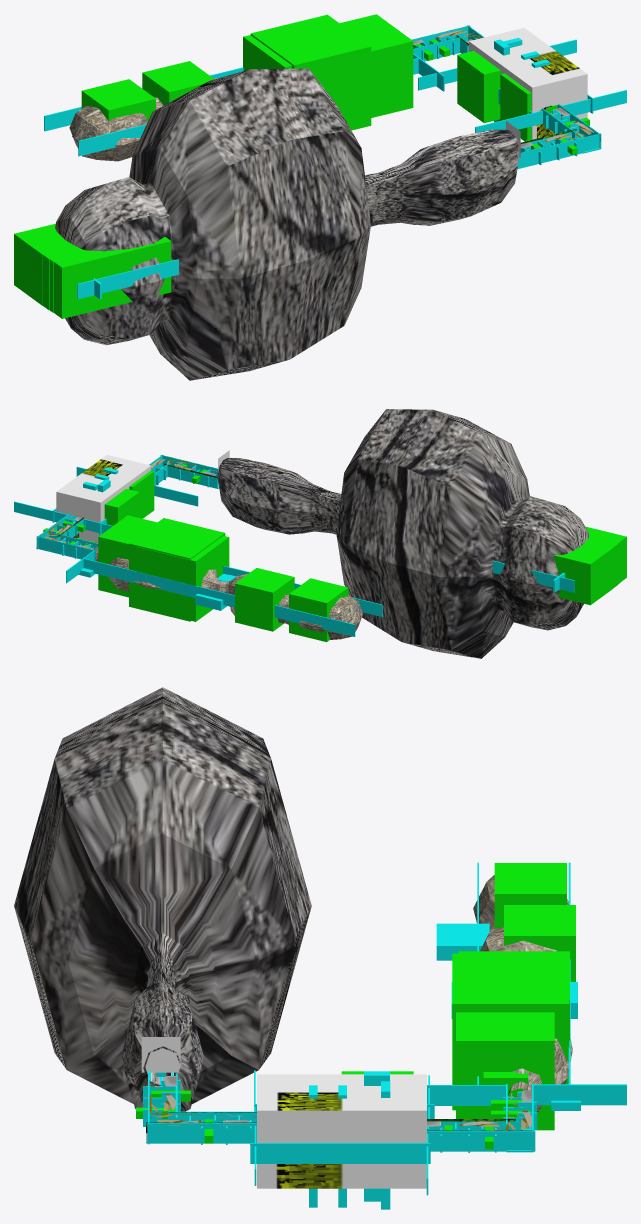
File: level1.obj
3 views of the same model, one above another, from view 1: azimuth 30°, elevation 25°; view 2: azimuth 150°, elevation 25°; view 3: azimuth 270°, elevation 25° (orthographic). The views are drawn at different scales.
Visible parts, largest first — view 1: Cube.057_Cube.065, Cube.250_Cube.243, Cube.056_Cube.062, Cube.267_Cube.260, Cube.251_Cube.244, Cube.257_Cube.250, Cube.055_Cube.061, Cube.207_Cube.007, Cube.247_Cube.217, Cube.266_Cube.259, Cube.275_Cube.269, Cube.259_Cube.252 (+8 smaller); view 2: Cube.057_Cube.065, Cube.248_Cube.241, Cube.056_Cube.062, Cube.250_Cube.243, Cube.269_Cube.262, Cube.247_Cube.217, Cube.266_Cube.259, Cube.055_Cube.061, Cube.207_Cube.007, Cube.251_Cube.244, Cube.257_Cube.250, Cube.259_Cube.252 (+11 smaller); view 3: Cube.057_Cube.065, Cube.056_Cube.062, Cube.250_Cube.243, Cube.251_Cube.244, Cube.270_Cube.263, Cube.207_Cube.007, Cube.247_Cube.217, Cube.055_Cube.061, Cube.123_Cube.117, Cube.244_Cube.118, Cube.124_Cube.160, Cube.282_Cube.275 (+3 smaller).
Boxes of the visible parts, x1,y1,x2,y2 form: Cube.057_Cube.065: (55,68,519,380); Cube.250_Cube.243: (250,14,371,130); Cube.056_Cube.062: (469,27,587,139); Cube.267_Cube.260: (47,237,171,318); Cube.251_Cube.244: (340,14,413,117); Cube.257_Cube.250: (457,51,500,123); Cube.055_Cube.061: (69,77,217,161); Cube.207_Cube.007: (81,79,155,127); Cube.247_Cube.217: (142,61,214,105); Cube.266_Cube.259: (14,223,57,305); Cube.275_Cube.269: (77,259,178,299); Cube.259_Cube.252: (500,73,557,140); Cube.057_Cube.065: (217,409,588,658); Cube.248_Cube.241: (137,535,229,621); Cube.056_Cube.062: (56,455,151,543); Cube.250_Cube.243: (129,518,225,621); Cube.269_Cube.262: (83,558,355,636); Cube.247_Cube.217: (235,568,294,631); Cube.266_Cube.259: (553,546,613,605); Cube.055_Cube.061: (94,547,363,639); Cube.207_Cube.007: (289,578,348,641); Cube.251_Cube.244: (98,515,157,597); Cube.257_Cube.250: (104,488,139,525); Cube.259_Cube.252: (129,470,154,518); Cube.057_Cube.065: (14,687,311,1111); Cube.056_Cube.062: (257,1074,426,1188); Cube.250_Cube.243: (452,953,569,1110); Cube.251_Cube.244: (456,1012,554,1130); Cube.270_Cube.263: (250,1143,430,1163); Cube.207_Cube.007: (494,863,566,928); Cube.247_Cube.217: (504,905,575,981); Cube.055_Cube.061: (473,875,572,1112); Cube.123_Cube.117: (427,1130,535,1151); Cube.244_Cube.118: (531,1084,626,1105); Cube.124_Cube.160: (147,1123,256,1141); Cube.282_Cube.275: (436,923,489,960).
Bounding box in the file's own units: 235 × 106 × 145.
